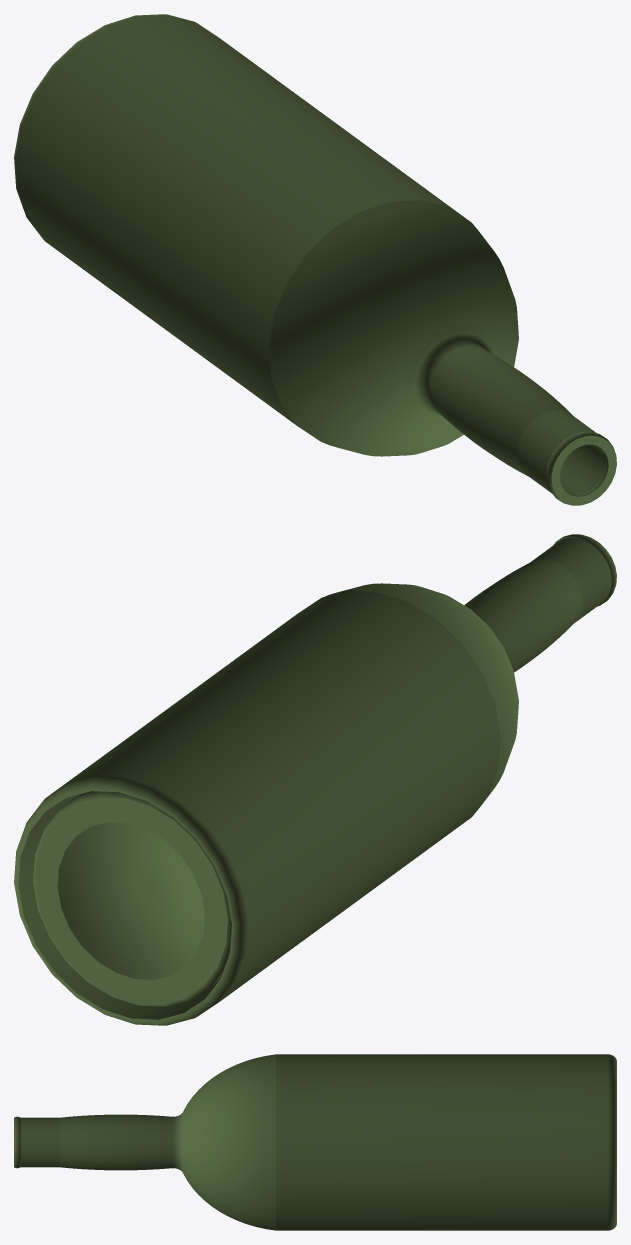
File: model_align.obj
The picture shows the model from 3 angles, top to bottom: view 1: azimuth 30°, elevation 25°; view 2: azimuth 150°, elevation 25°; view 3: azimuth 270°, elevation 25°; orthographic projection. The views are drawn at different scales.
Visible parts, largest first — view 1: mesh1_mesh1-geometry; view 2: mesh1_mesh1-geometry; view 3: mesh1_mesh1-geometry.
Boxes of the visible parts, box(x1,y1,x2,y2) form: mesh1_mesh1-geometry: box(14, 14, 616, 505); mesh1_mesh1-geometry: box(14, 534, 616, 1025); mesh1_mesh1-geometry: box(14, 1054, 616, 1230).
Size of the model in its own units: 0.0627 by 0.0627 by 0.2149.
